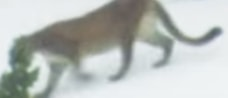Mountain Lion: (5, 3, 227, 85)
